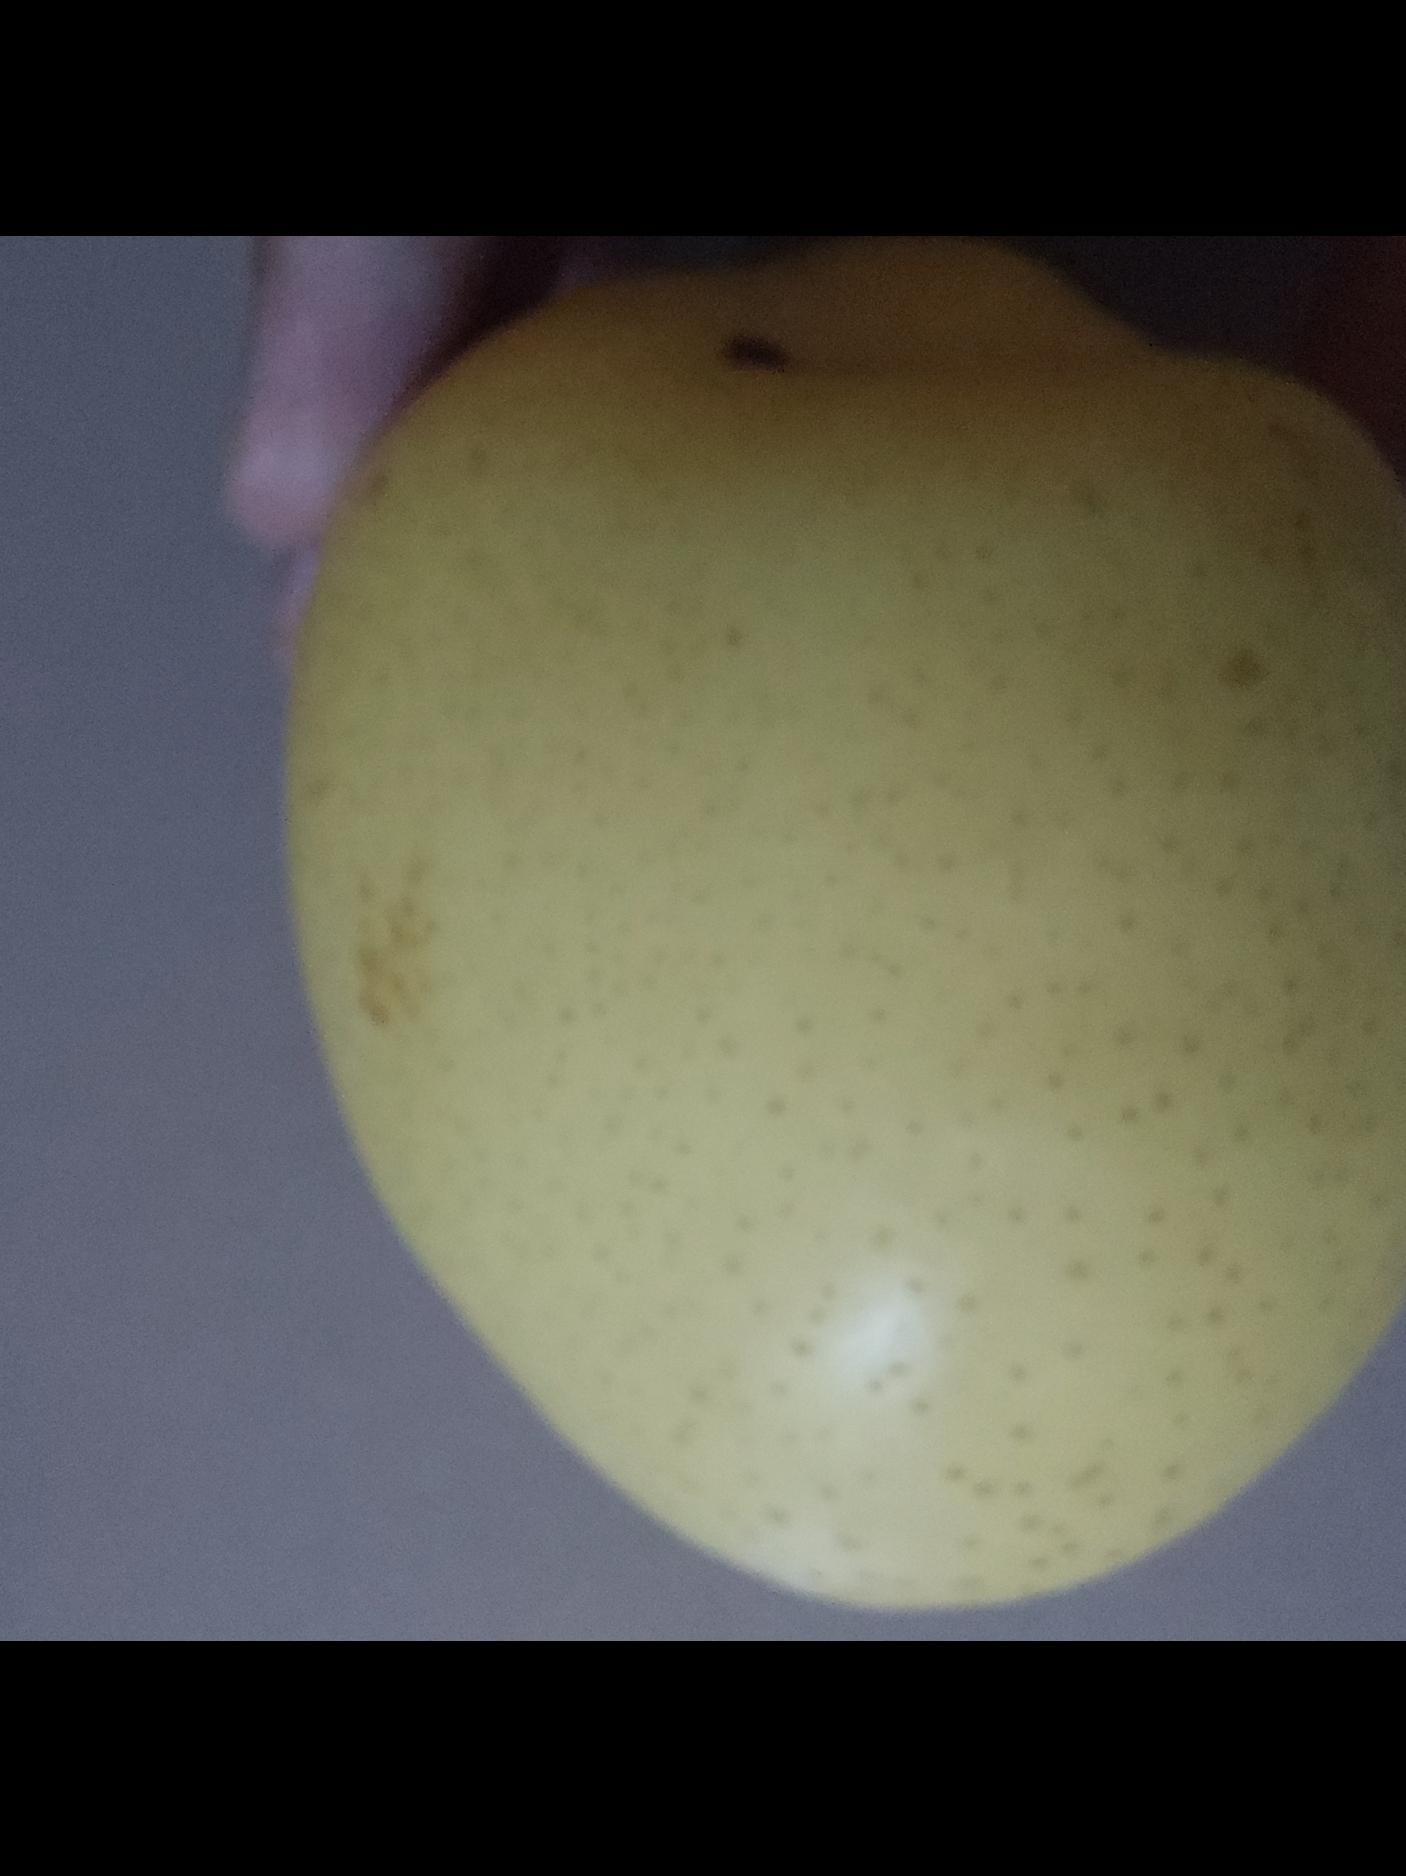Good Pear: (342, 468, 1406, 1641)
